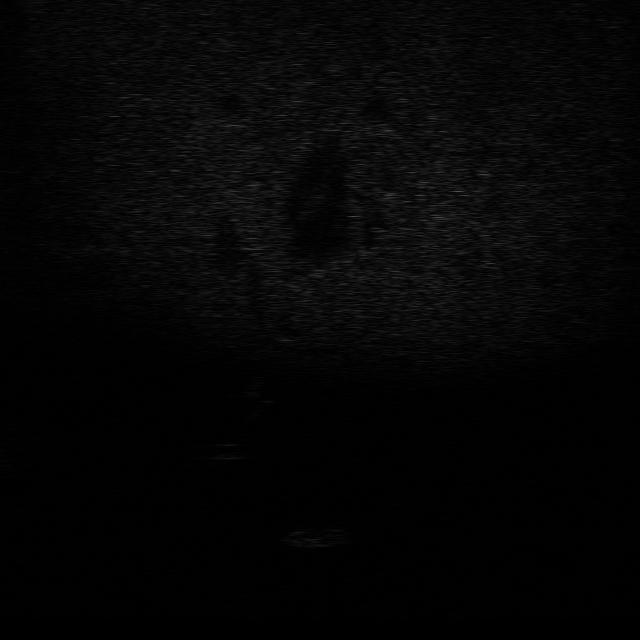ball: (202, 437, 254, 463)
circle cage: (279, 522, 356, 551)
human body: (238, 366, 278, 425)
